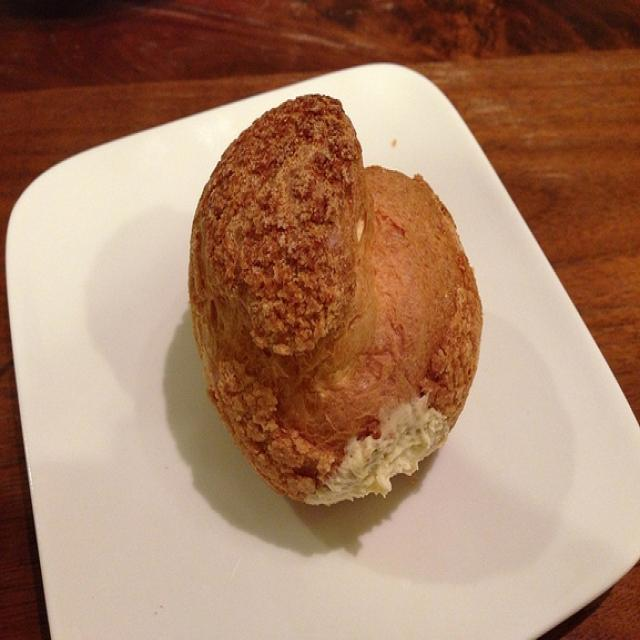炸货点心: (1, 41, 633, 634)
蛋糕甜品: (1, 41, 633, 634)
